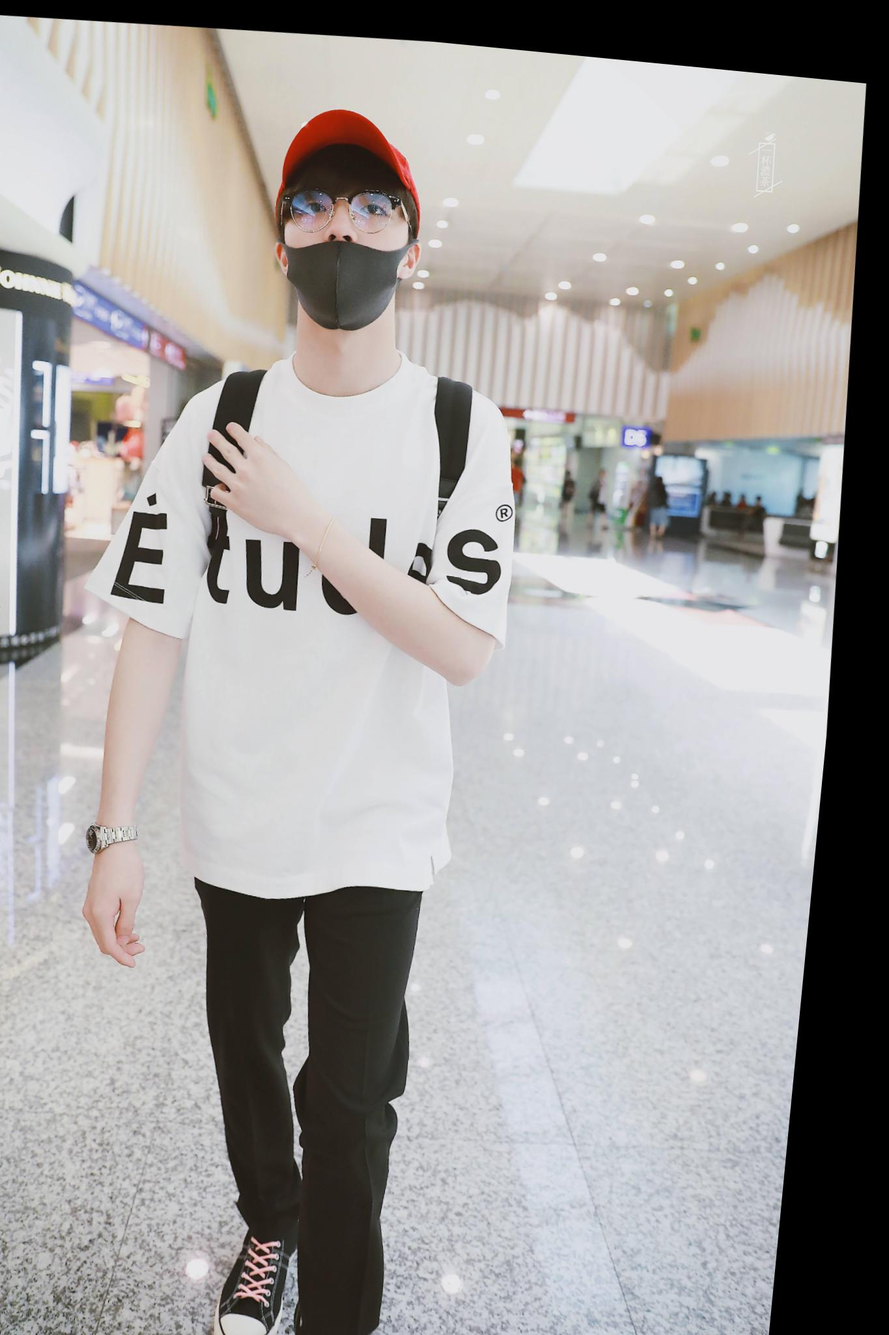WRONG: (285, 163, 415, 332)
